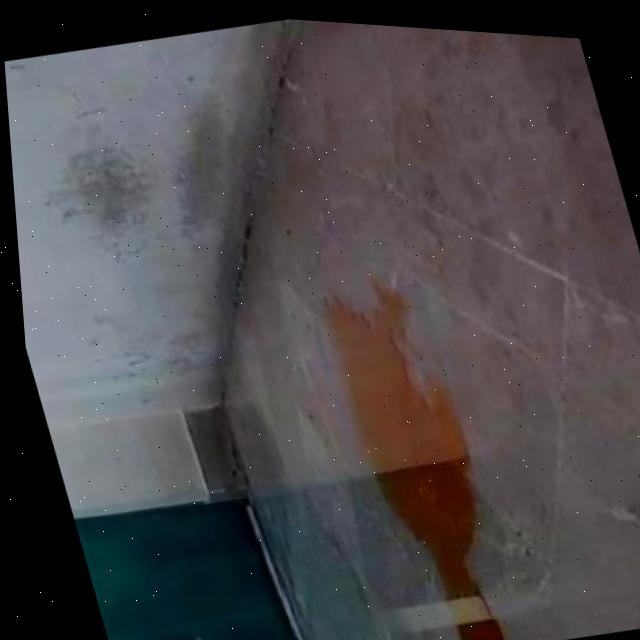spillage: (330, 284, 468, 591), (448, 613, 494, 640)
